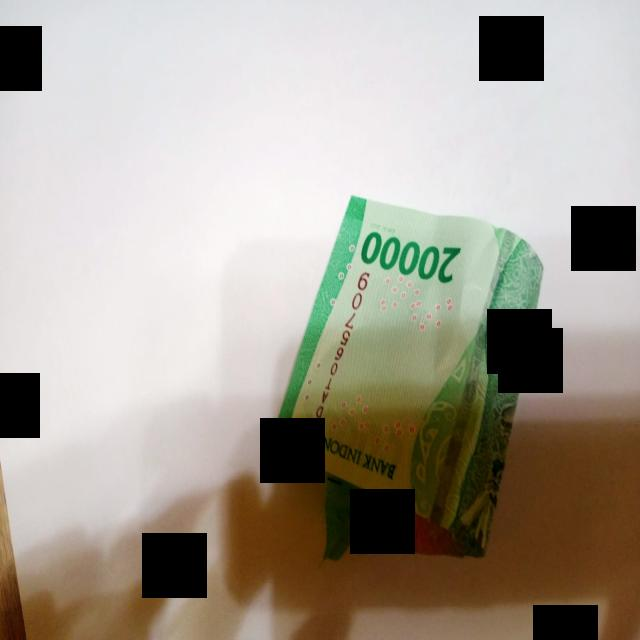dua puluh ribu rupiah: (271, 197, 542, 559)
